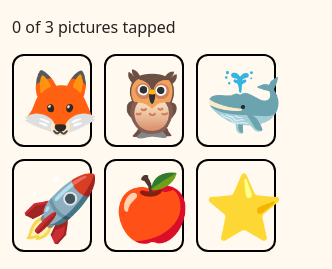
Scenario: the picture login › says how many pictures have been tapped
The image size is (332, 269).
Click the button named "Owl" at (144, 100), box left=104, top=54, right=184, bottom=147
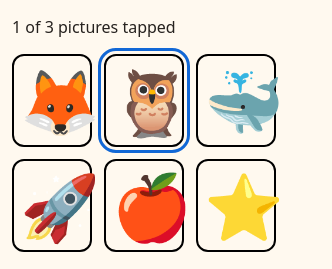
Now the text "1 of 3 pictures tapped" is shown, box left=12, top=16, right=176, bottom=38
